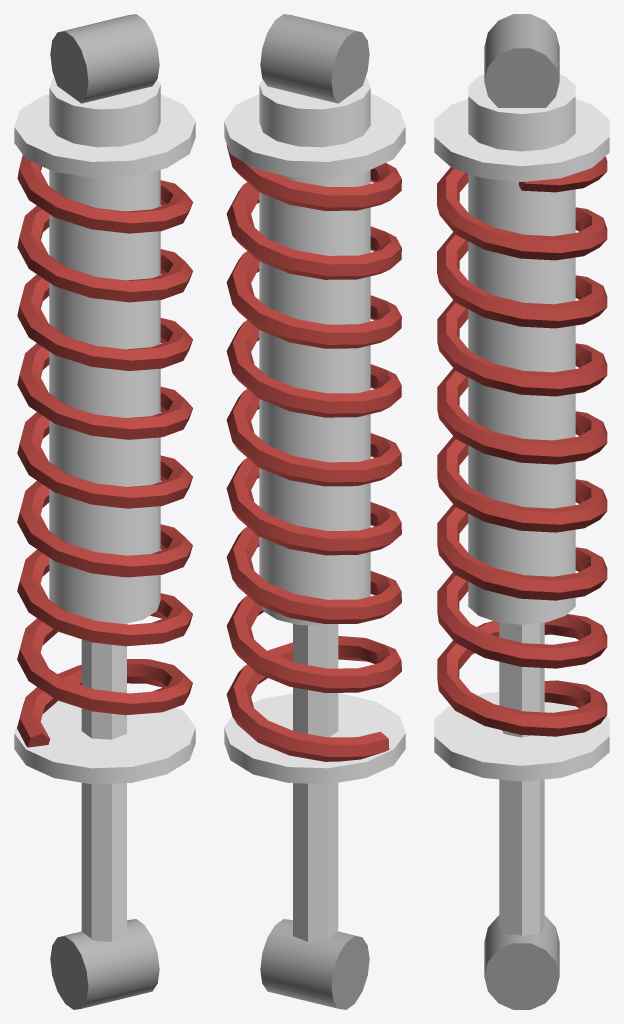
The model's file is twin_shock.glb.
3 renders of one model, left to right at view 1: azimuth 30°, elevation 25°; view 2: azimuth 150°, elevation 25°; view 3: azimuth 270°, elevation 25°, orthographic.
Parts seen in each view (by area): view 1: lod0; view 2: lod0; view 3: lod0.
Part boxes in pixels (x1,y1,x2,y2): lod0: (14,14,195,1009); lod0: (224,14,405,1009); lod0: (434,14,609,1009).
Size of what is drawn, in the model's own units: 0.062 by 0.3653 by 0.0604.
